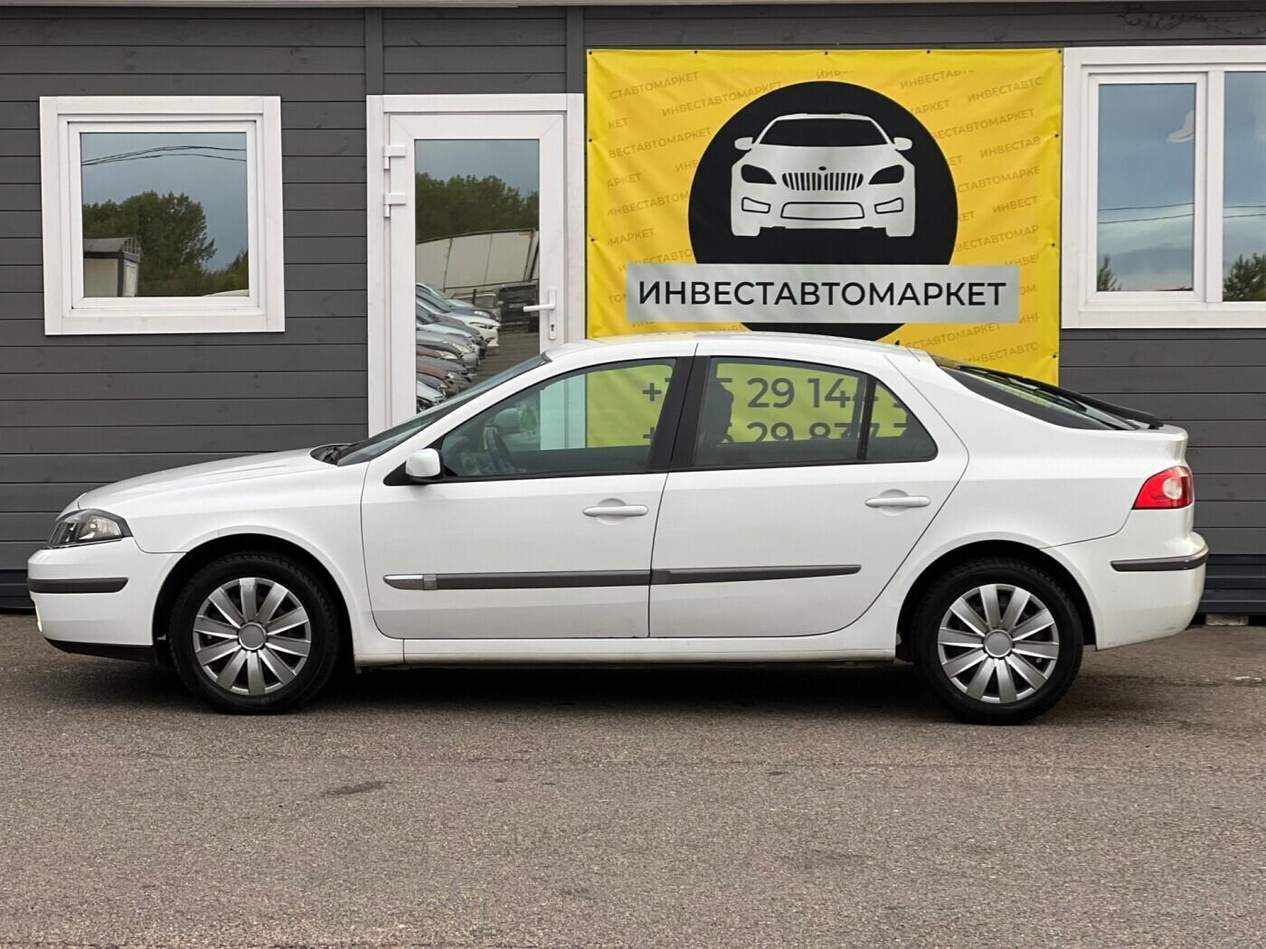Laguna_2005-2007: (26, 318, 1201, 727)
